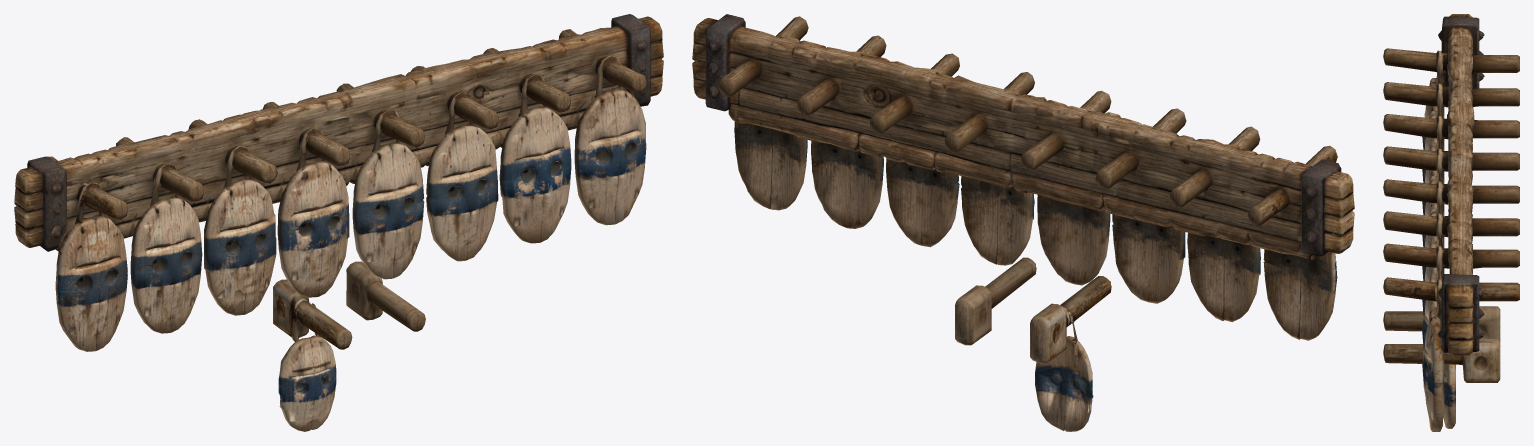
The model's file is lm_mask_pegs.glb.
3 renders of one model, left to right at view 1: azimuth 30°, elevation 25°; view 2: azimuth 150°, elevation 25°; view 3: azimuth 270°, elevation 25°, orthographic. The views are drawn at different scales.
Visible parts, largest first — view 1: lm_mask_pegs; view 2: lm_mask_pegs; view 3: lm_mask_pegs.
Part boxes in pixels (x1,y1,x2,y2): lm_mask_pegs: (14,14,663,431); lm_mask_pegs: (692,14,1354,431); lm_mask_pegs: (1383,14,1519,431).
Bounding box in the file's own units: 2.4 × 1.17 × 0.4932.
1 material, 1 textured.
